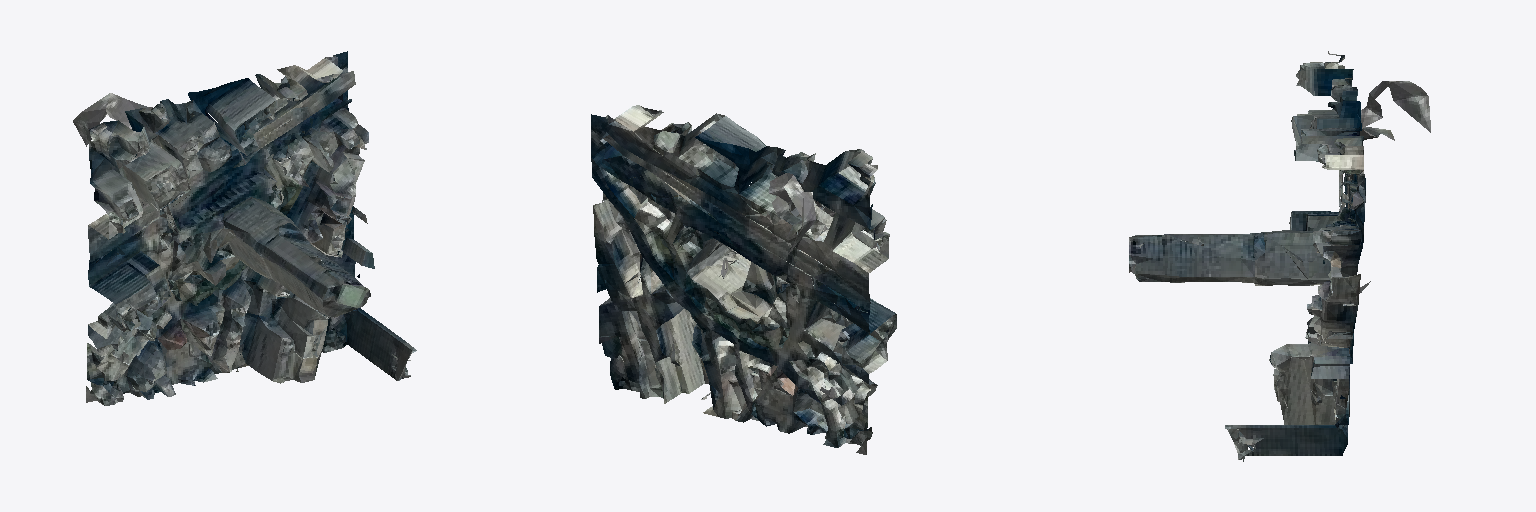
3 renders of one model, left to right at view 1: azimuth 30°, elevation 25°; view 2: azimuth 150°, elevation 25°; view 3: azimuth 270°, elevation 25°, orthographic.
Visible parts, largest first — view 1: Tile_173078_LD_012_019_L15.osgb__Geometry_0; view 2: Tile_173078_LD_012_019_L15.osgb__Geometry_0; view 3: Tile_173078_LD_012_019_L15.osgb__Geometry_0.
Boxes of the visible parts, x1,y1,x2,y2 form: Tile_173078_LD_012_019_L15.osgb__Geometry_0: [73, 51, 416, 405]; Tile_173078_LD_012_019_L15.osgb__Geometry_0: [591, 105, 896, 454]; Tile_173078_LD_012_019_L15.osgb__Geometry_0: [1129, 51, 1430, 461].
Size of the model in its own units: 255 by 255 by 249.
1 materials, 1 textured.